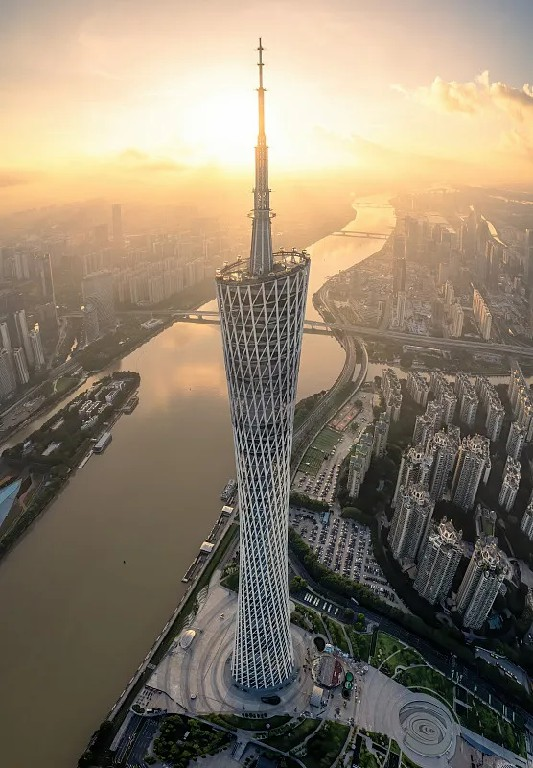Canton: (216, 35, 311, 691)
